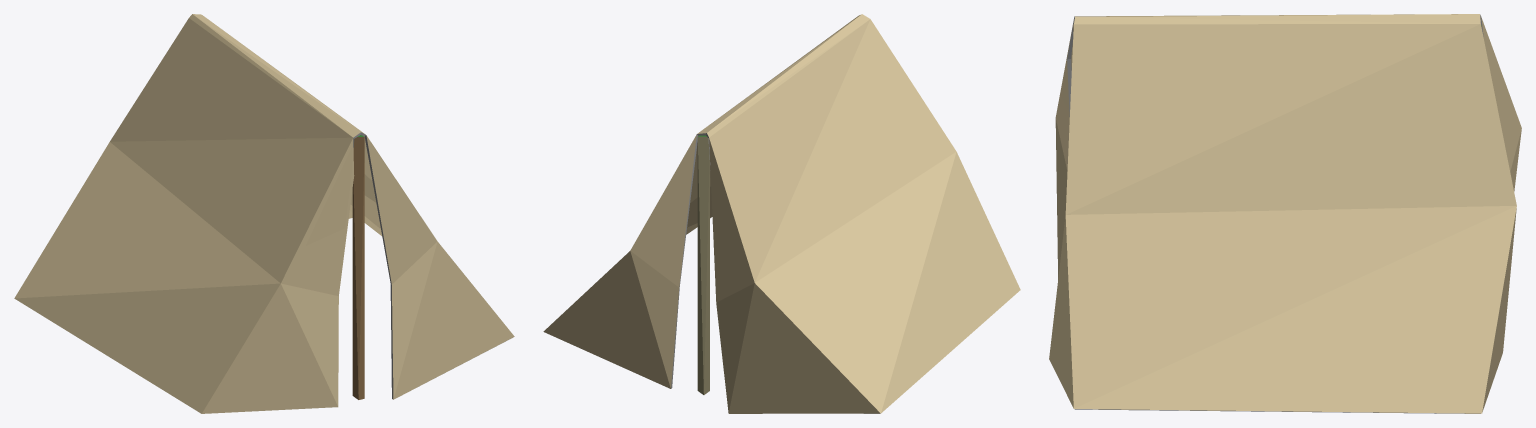
Rendered from Zelt_Mesh_thick_revNormal.fbx.
3 views of the same model, side by side, from view 1: azimuth 30°, elevation 25°; view 2: azimuth 150°, elevation 25°; view 3: azimuth 270°, elevation 25° (orthographic). The views are drawn at different scales.
Visible parts, largest first — view 1: Zelt; view 2: Zelt; view 3: Zelt.
Boxes of the visible parts, x1,y1,x2,y2 form: Zelt: (14,14,514,413); Zelt: (543,14,1020,413); Zelt: (1049,14,1521,413).
Bounding box in the file's own units: 89.89 × 68.44 × 86.6.
